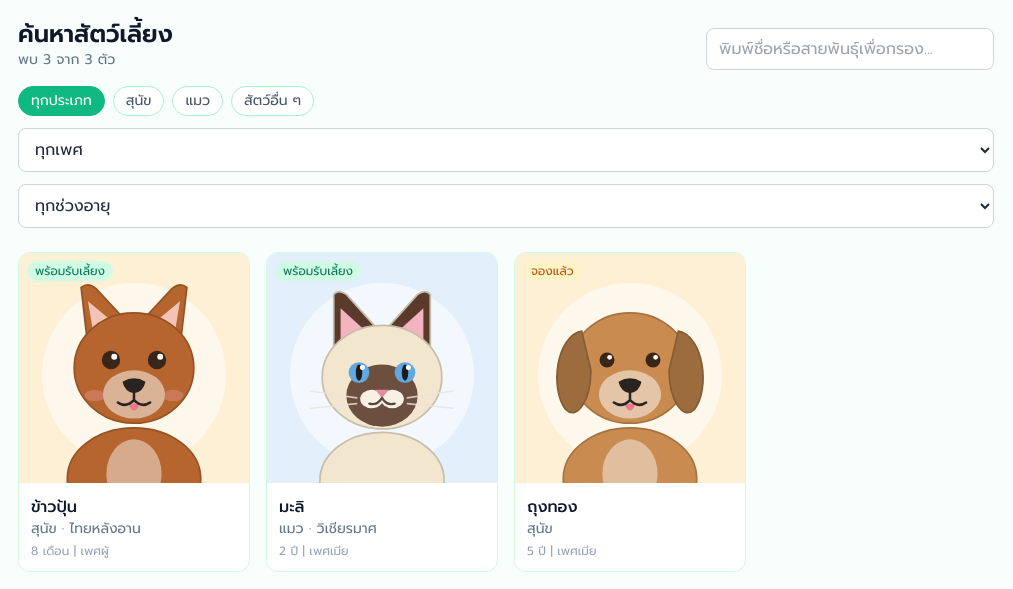
Test: เลือกเพศ ต้องเหลือเฉพาะเพศที่เลือก
Expected: the heading "ข้าวปุ้น" is shown, [31,495,77,519]
Select "เพศผู้" in the dropdown named "กรองตามเพศ" at (506, 150), box [18,128,994,172]
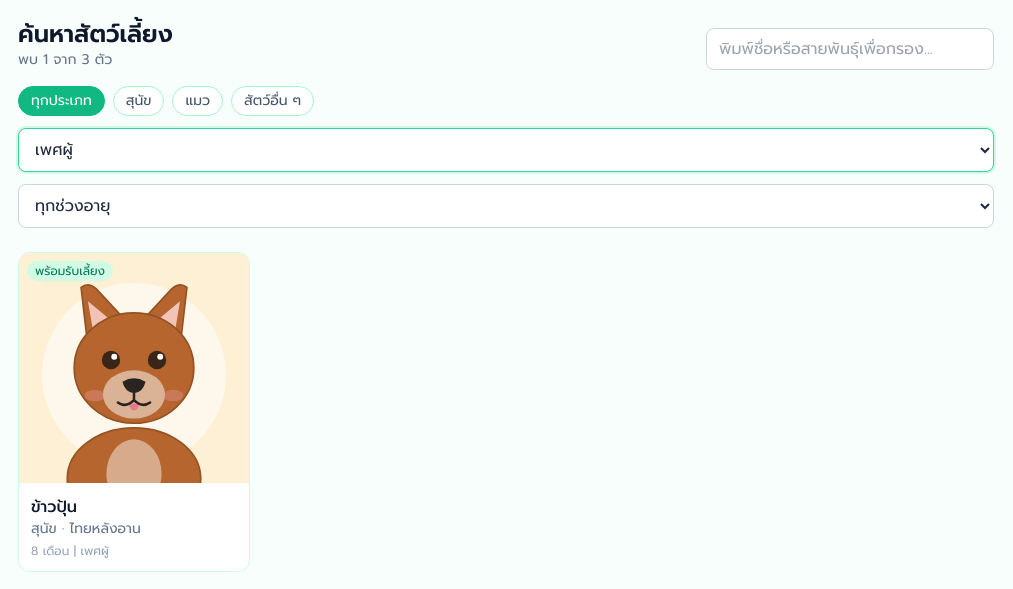
Expected: the heading "ข้าวปุ้น" is shown, [31,495,77,519]
Result: the link "มะลิ" is gone
